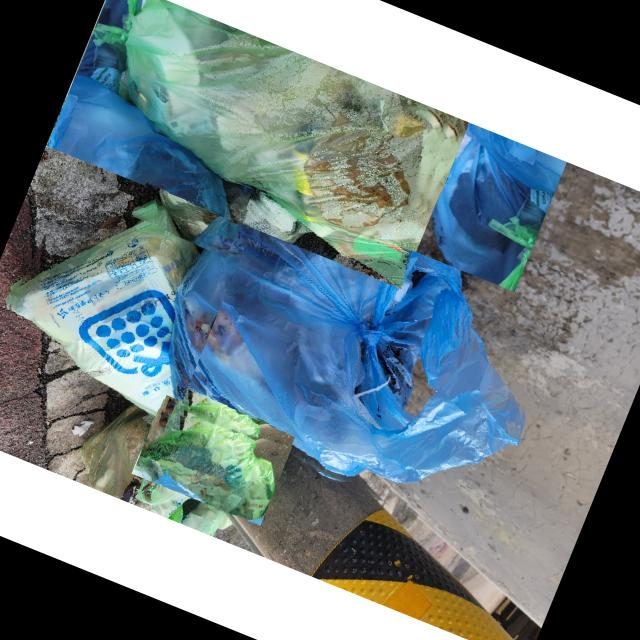general_trashbag: (94, 0, 454, 287), (9, 207, 193, 418), (141, 420, 274, 516), (153, 163, 252, 240)
other_trashbag: (166, 177, 521, 482), (409, 121, 546, 283)
